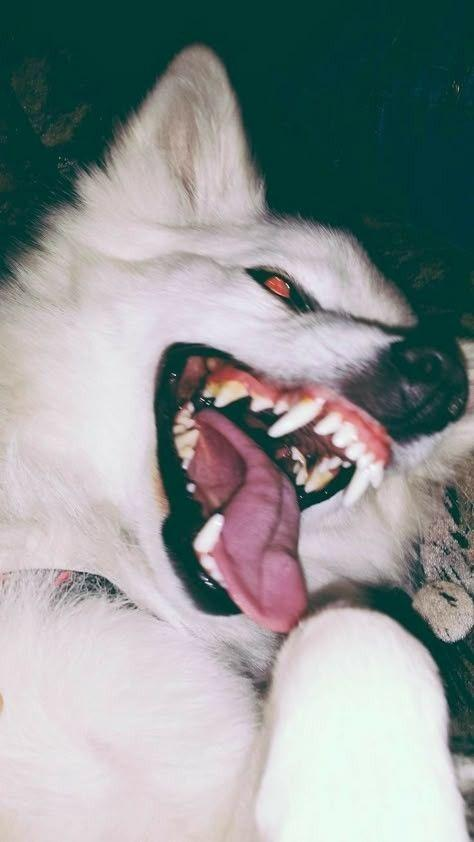adult_dog: (0, 40, 474, 842)
